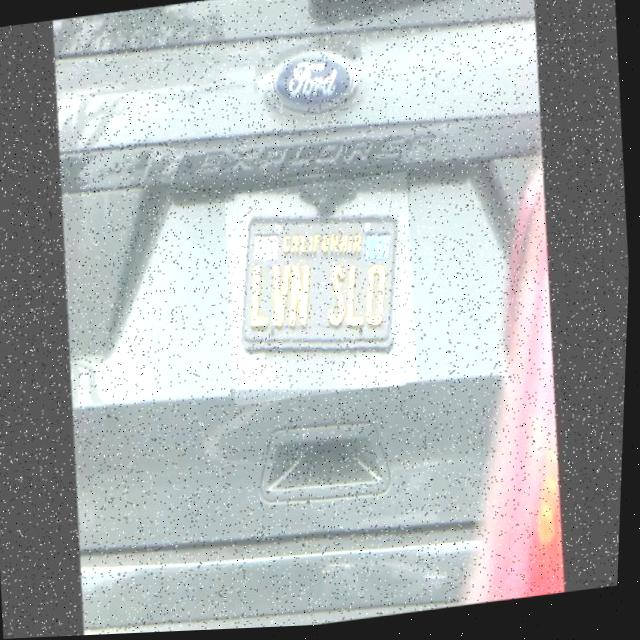LicensePlate: (219, 174, 426, 408)
